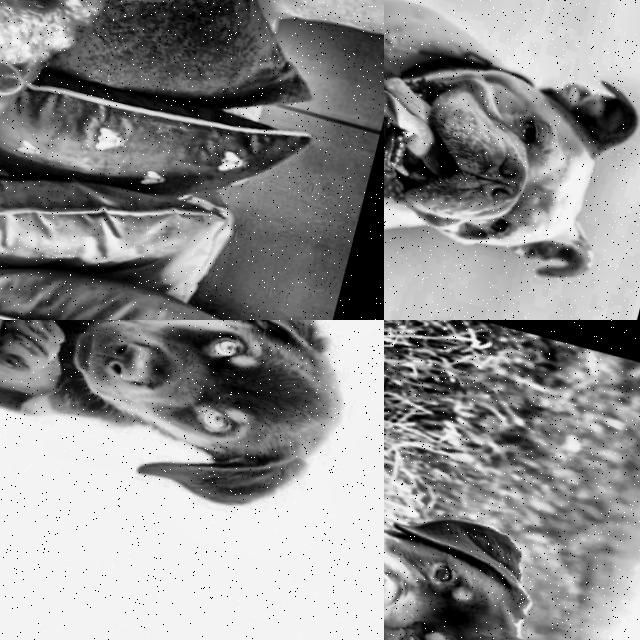bulldog: (384, 6, 640, 300)
rottweiler: (25, 320, 384, 562), (384, 423, 603, 640)
